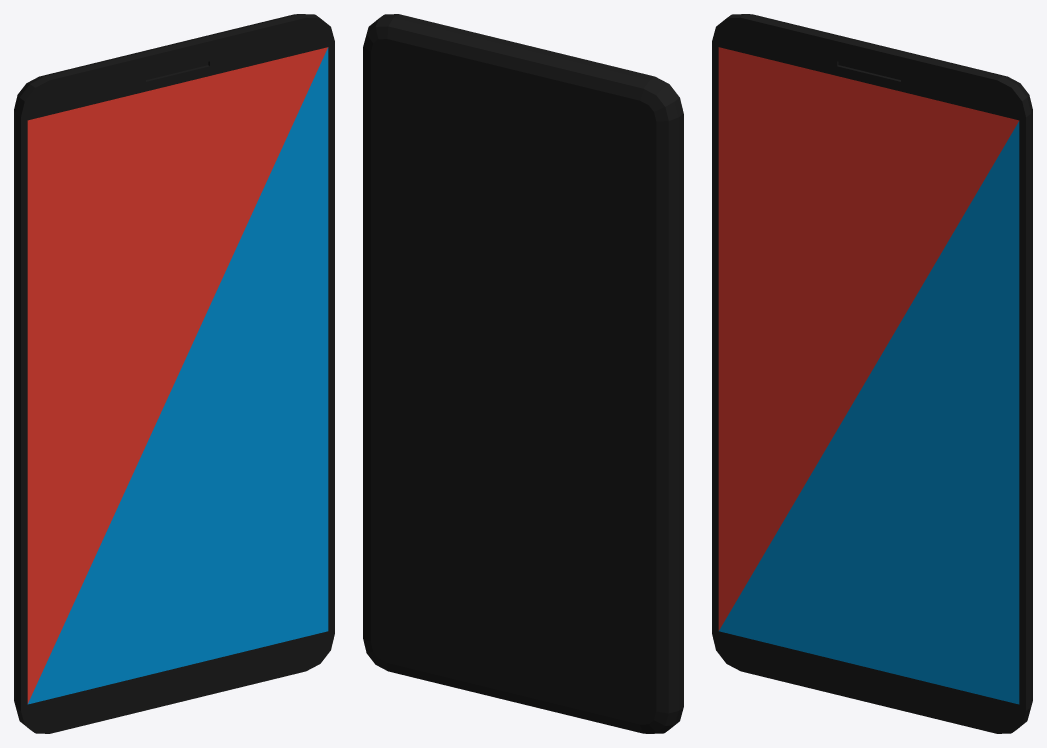
The model's file is smartphone.glb.
3 renders of one model, left to right at view 1: azimuth 30°, elevation 25°; view 2: azimuth 150°, elevation 25°; view 3: azimuth 330°, elevation 25°, orthographic.
Visible parts, largest first — view 1: Phone_01_Cube.037; view 2: Phone_01_Cube.037; view 3: Phone_01_Cube.037.
Part boxes in pixels (x1=…): Phone_01_Cube.037: x1=14, y1=14, x2=334, y2=733; Phone_01_Cube.037: x1=363, y1=14, x2=683, y2=733; Phone_01_Cube.037: x1=712, y1=14, x2=1032, y2=733.
Bounding box in the file's own units: 4.91 × 9.76 × 0.3608.
